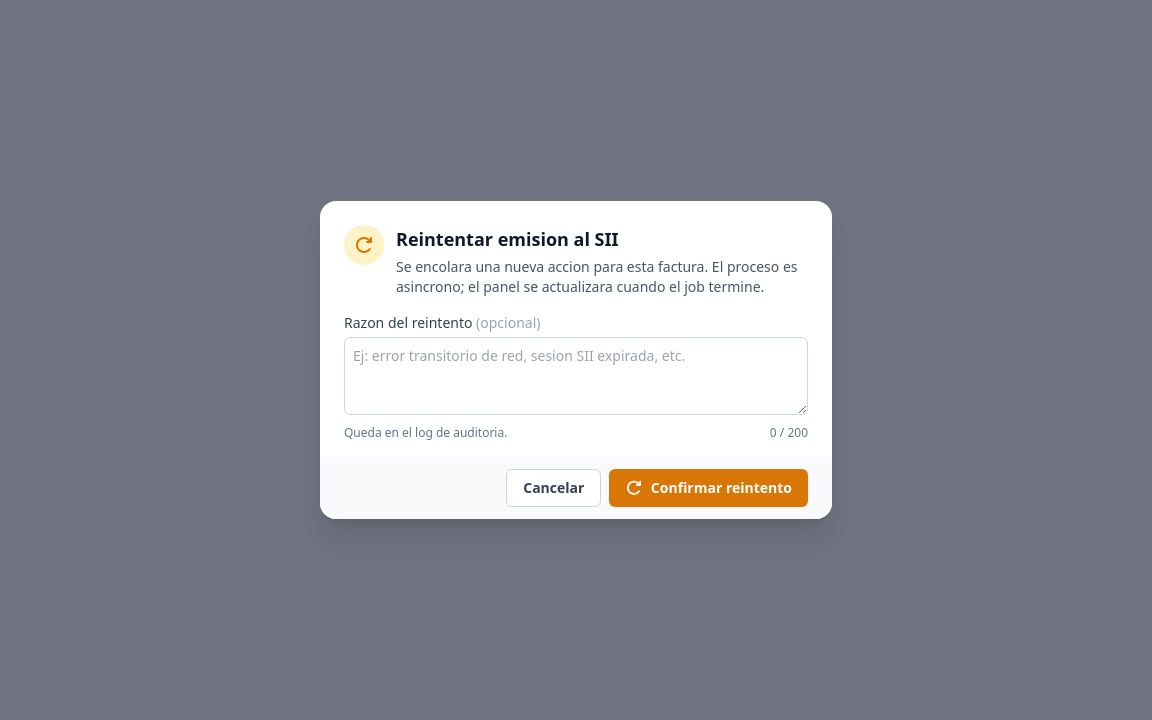
Test: ModalReintentarSii › error generico (no 422) muestra mensaje inline
Click the button with test id "btn-confirmar-reintento" at point(709, 488), box top-left (609, 469), bottom-right (808, 507)
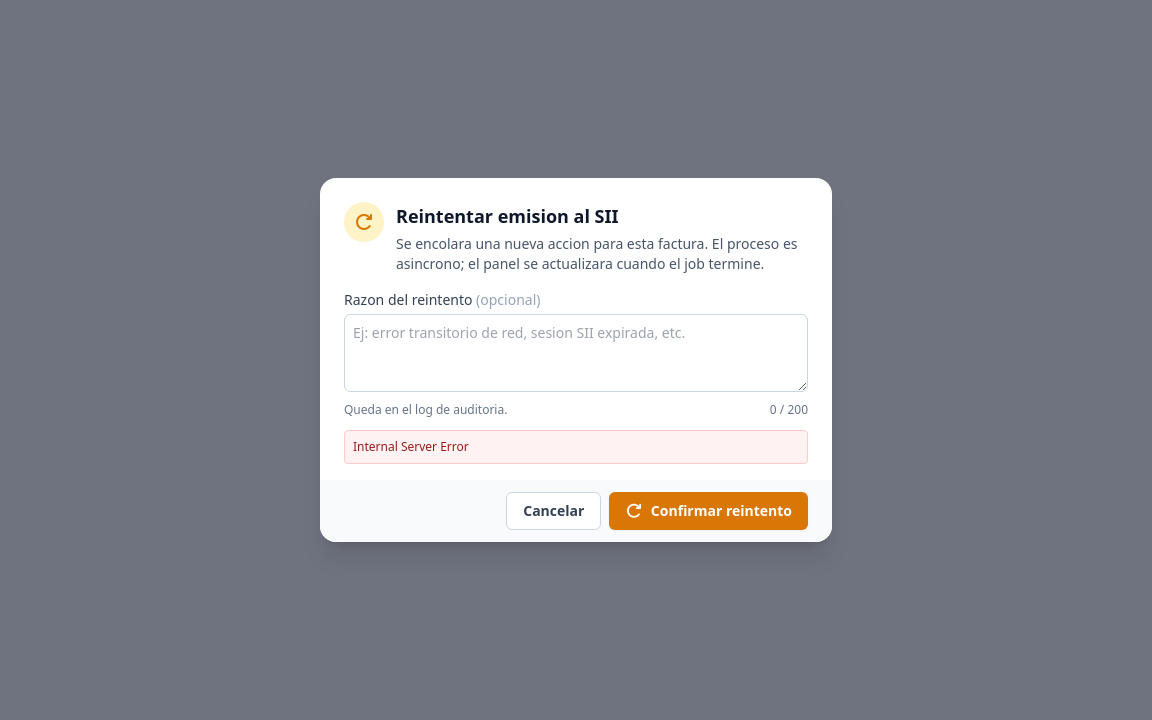
Check: the text with test id "reintentar-sii-error-inline" reads "Internal Server Error", box top-left (353, 438), bottom-right (469, 455)
